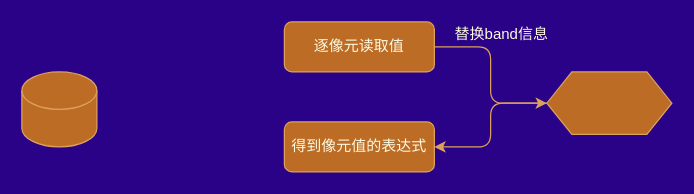
The diagram is 694 pixels wide and 194 high, and some of its shapes have lost their labels. The centre of each missing label's shape, as x and y in pixels:
后缀表达式: point (609, 102)
堆栈: point (59, 109)
